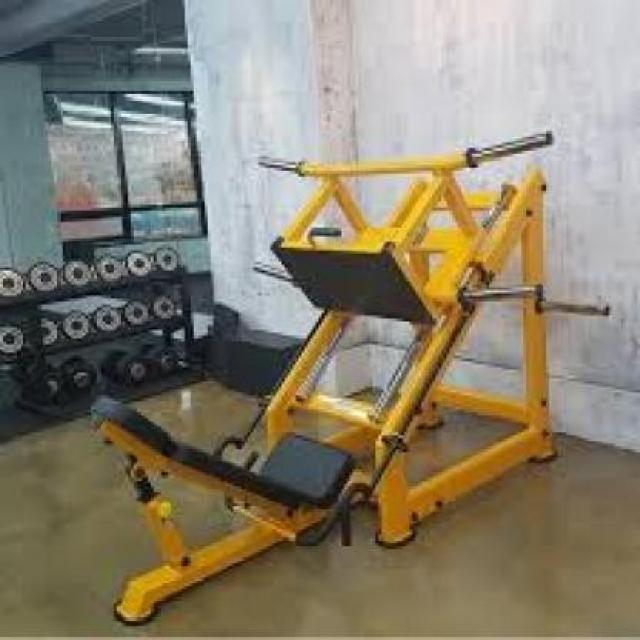leg press: (81, 128, 614, 634)
